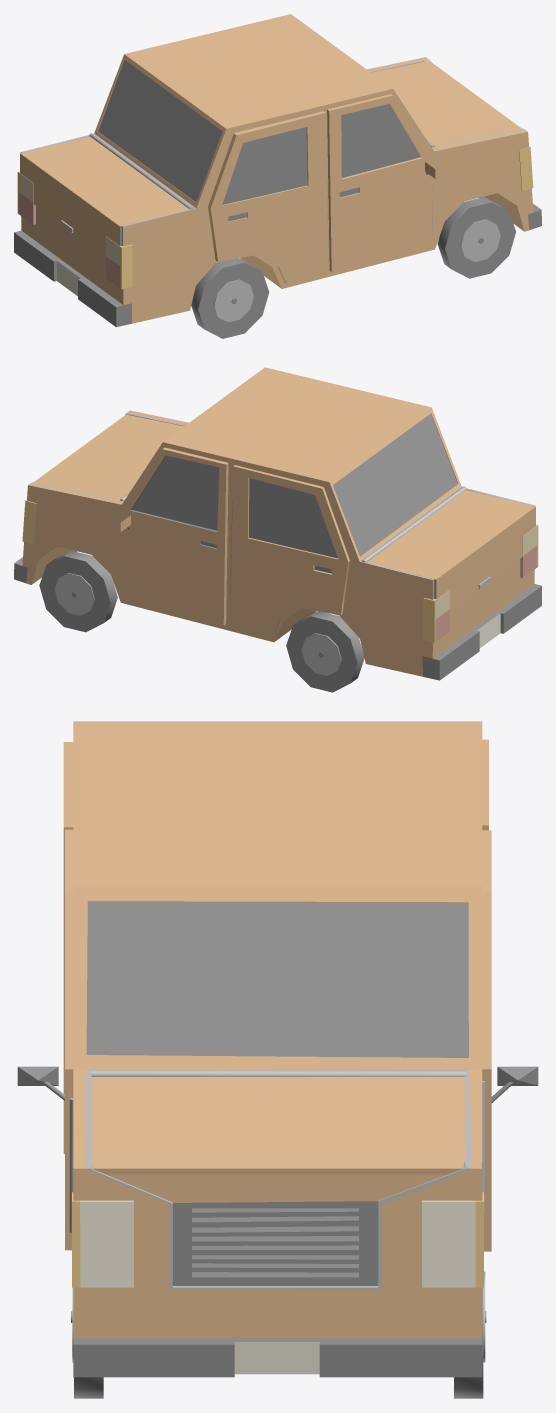
The model's file is kar4.fbx.
3 renders of one model, top to bottom at view 1: azimuth 30°, elevation 25°; view 2: azimuth 150°, elevation 25°; view 3: azimuth 270°, elevation 25°, orthographic. The views are drawn at different scales.
Visible parts, largest first — view 1: Cube_2, Cylinder_4, Cylinder, Cylinder_1, Boole, Cylinder_6, Cylinder_9; view 2: Cube_2, Cylinder_10, Cylinder_5, Cylinder_1, Boole, Cylinder_7, Cylinder_8; view 3: Cube_2, Boole, Cylinder_5, Cylinder, Cylinder_4, Cylinder_7, Cylinder_6.
Part boxes in pixels (x1=…): Cube_2: x1=14, y1=14, x2=541, y2=327; Cylinder_4: x1=208, y1=111, x2=328, y2=284; Cylinder: x1=327, y1=94, x2=435, y2=271; Cylinder_1: x1=20, y1=133, x2=194, y2=256; Boole: x1=371, y1=61, x2=521, y2=147; Cylinder_6: x1=437, y1=197, x2=515, y2=278; Cylinder_9: x1=191, y1=258, x2=269, y2=338; Cube_2: x1=14, y1=367, x2=541, y2=680; Cylinder_10: x1=230, y1=465, x2=349, y2=638; Cylinder_5: x1=120, y1=447, x2=228, y2=625; Cylinder_1: x1=361, y1=486, x2=535, y2=609; Boole: x1=33, y1=414, x2=183, y2=501; Cylinder_7: x1=39, y1=550, x2=117, y2=632; Cylinder_8: x1=286, y1=611, x2=364, y2=692; Cube_2: x1=72, y1=721, x2=483, y2=1377; Boole: x1=91, y1=1070, x2=466, y2=1285; Cylinder_5: x1=482, y1=830, x2=538, y2=1251; Cylinder: x1=17, y1=829, x2=73, y2=1250; Cylinder_4: x1=63, y1=742, x2=73, y2=1153; Cylinder_7: x1=454, y1=1271, x2=486, y2=1398; Cylinder_6: x1=71, y1=1287, x2=103, y2=1398.
Size of the model in its own units: 457 by 215 by 242.
